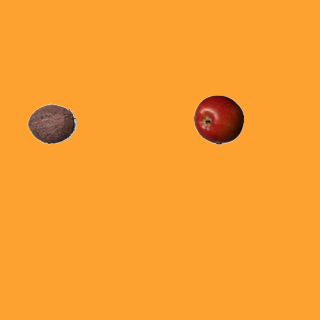Apple Braeburn: (193, 94, 243, 144)
Cocos: (26, 98, 76, 148)
